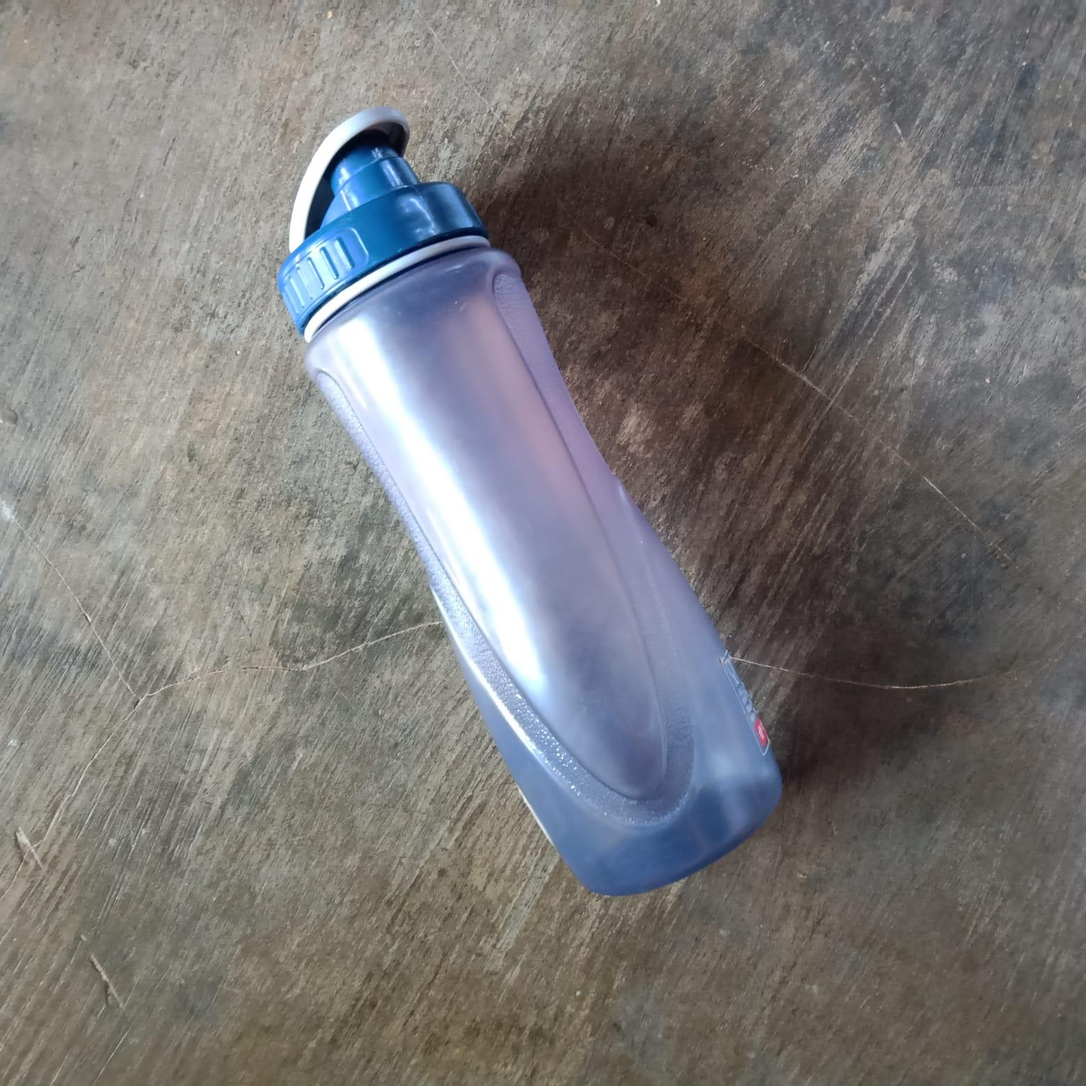Plastik: (277, 110, 783, 898)
